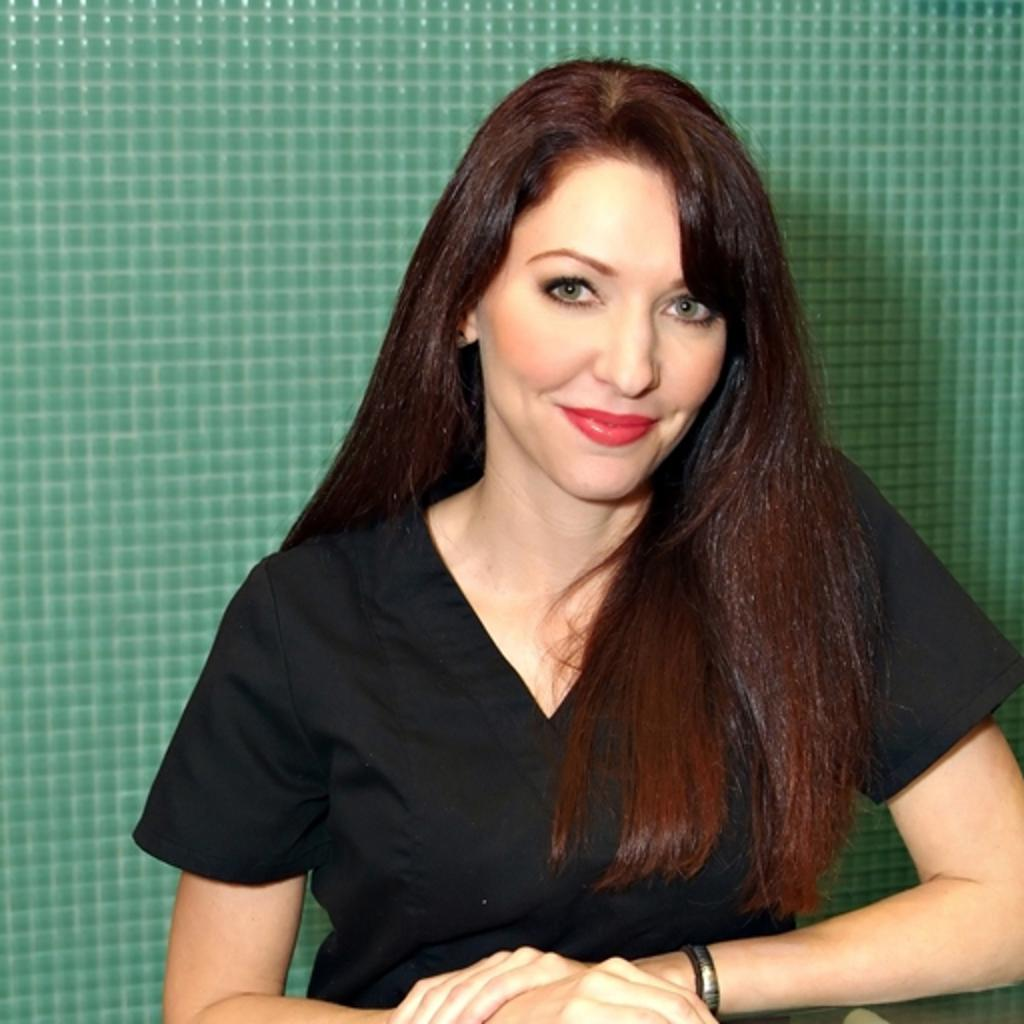face: (482, 194, 726, 500)
